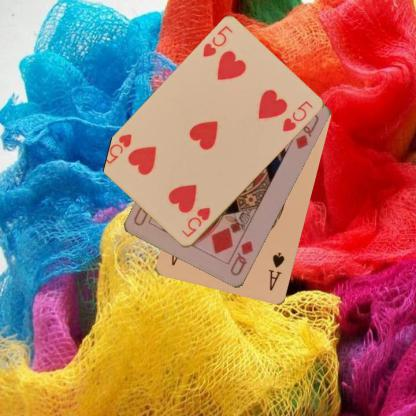5h: (200, 23, 234, 59), (179, 205, 212, 239)
As: (267, 250, 286, 292)
Qd: (228, 238, 255, 277)
